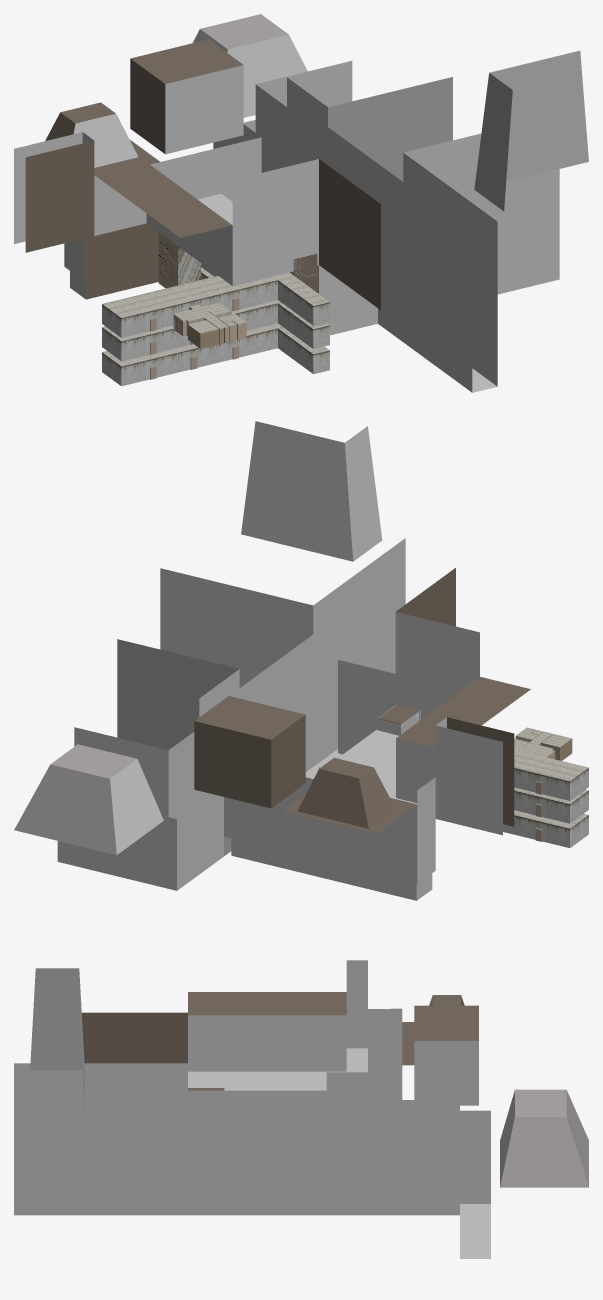
File: Mapa_1.fbx
3 views of the same model, one above another, from view 1: azimuth 30°, elevation 25°; view 2: azimuth 150°, elevation 25°; view 3: azimuth 270°, elevation 25° (orthographic). The views are drawn at different scales.
Visible parts, largest first — view 1: EDIFICIOS; view 2: EDIFICIOS; view 3: EDIFICIOS.
Part boxes in pixels (x1,y1,x2,y2): EDIFICIOS: [14, 14, 588, 392]; EDIFICIOS: [14, 421, 588, 900]; EDIFICIOS: [14, 960, 588, 1258].
Size of the model in its own units: 9281 by 5733 by 11204.
